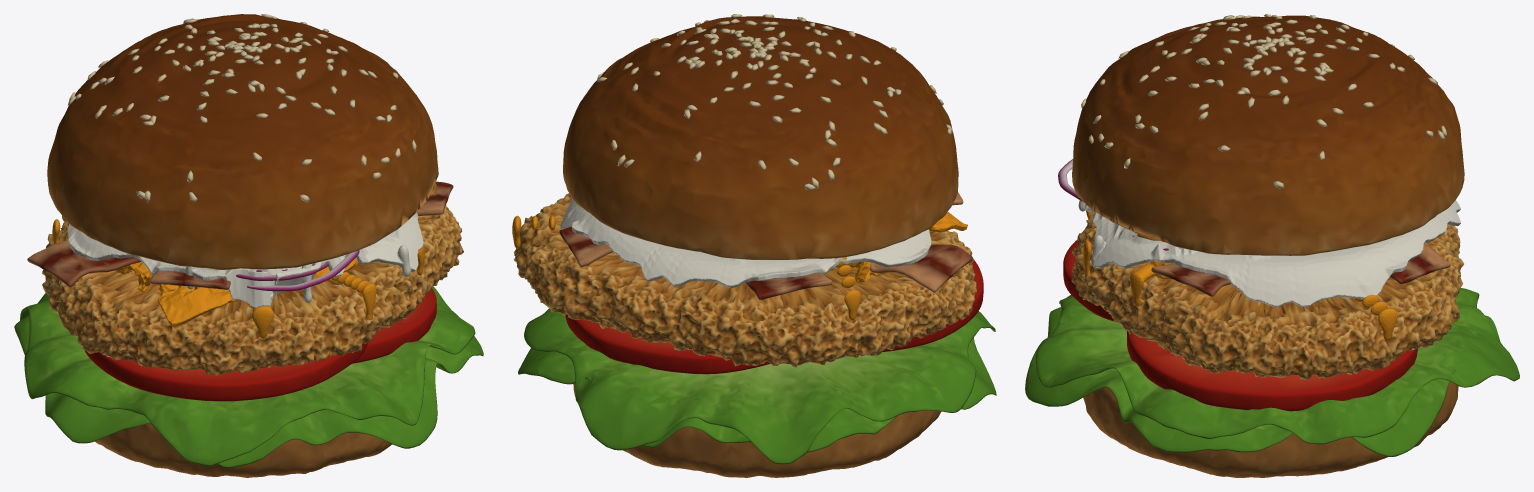
File: chicken-crispy.glb
3 renders of one model, left to right at view 1: azimuth 30°, elevation 25°; view 2: azimuth 150°, elevation 25°; view 3: azimuth 270°, elevation 25°, orthographic.
Parts seen in each view (by area): view 1: pain_haut, poulet_pane, salade1, salade0, tomate1, pain_bas, sauce, sesame, cheddar, bacon0, tomate0, bacon1 (+2 smaller); view 2: pain_haut, poulet_pane, salade1, sauce, pain_bas, sesame, salade0, tomate0, bacon0, cheddar, bacon2, tomate1 (+1 smaller); view 3: pain_haut, poulet_pane, salade1, sauce, salade0, tomate0, pain_bas, sesame, cheddar, bacon2, bacon1, tomate1.
Part boxes in pixels (bbox=[...]): pain_haut: bbox=[47, 14, 438, 269]; poulet_pane: bbox=[42, 204, 463, 375]; salade1: bbox=[20, 286, 475, 466]; salade0: bbox=[14, 315, 483, 467]; tomate1: bbox=[83, 343, 367, 401]; pain_bas: bbox=[95, 424, 391, 477]; sauce: bbox=[67, 213, 423, 308]; sesame: bbox=[67, 14, 416, 202]; cheddar: bbox=[52, 216, 424, 338]; bacon0: bbox=[27, 240, 141, 286]; tomate0: bbox=[352, 288, 436, 363]; bacon1: bbox=[150, 271, 230, 289]; pain_haut: bbox=[563, 16, 958, 259]; poulet_pane: bbox=[514, 193, 976, 367]; salade1: bbox=[524, 308, 995, 464]; sauce: bbox=[560, 198, 931, 288]; pain_bas: bbox=[573, 383, 941, 477]; sesame: bbox=[597, 14, 952, 190]; salade0: bbox=[518, 337, 996, 452]; tomate0: bbox=[565, 314, 770, 374]; bacon0: bbox=[870, 244, 972, 292]; cheddar: bbox=[512, 211, 967, 320]; bacon2: bbox=[745, 272, 832, 299]; tomate1: bbox=[882, 259, 983, 351]; pain_haut: bbox=[1072, 15, 1464, 255]; poulet_pane: bbox=[1071, 215, 1463, 379]; salade1: bbox=[1035, 288, 1519, 444]; sauce: bbox=[1078, 200, 1460, 307]; salade0: bbox=[1025, 307, 1500, 456]; tomate0: bbox=[1127, 331, 1417, 411]; pain_bas: bbox=[1083, 381, 1458, 477]; sesame: bbox=[1081, 14, 1446, 188]; cheddar: bbox=[1083, 211, 1397, 340]; bacon2: bbox=[1151, 263, 1230, 296]; bacon1: bbox=[1390, 243, 1450, 283]; tomate1: bbox=[1063, 240, 1117, 322].
Size of the model in its own units: 0.1387 by 0.1163 by 0.1411.
